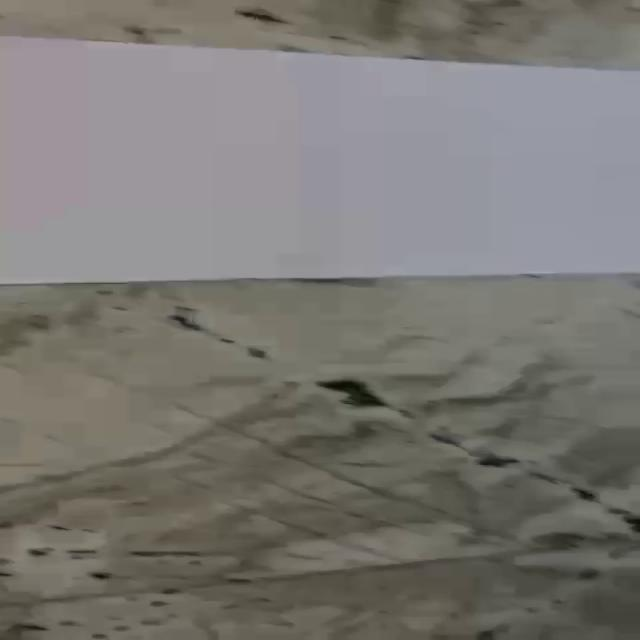road: (0, 34, 640, 285)
